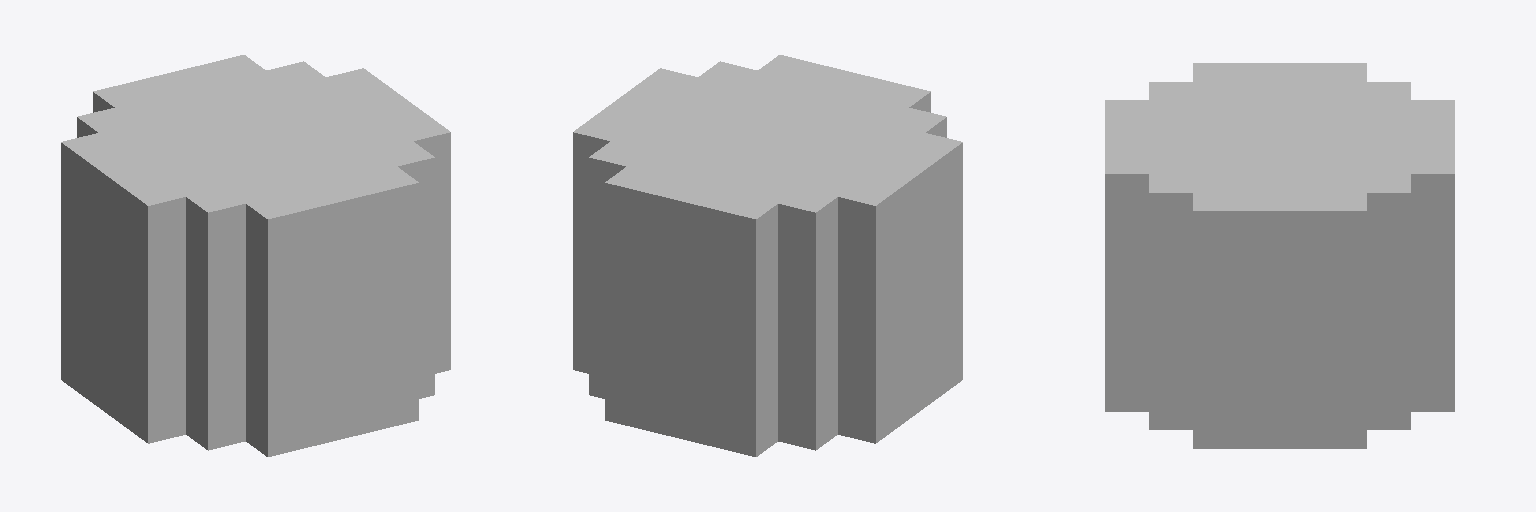
File: glass of Something very bad-0.obj
The picture shows the model from 3 angles: view 1: azimuth 30°, elevation 25°; view 2: azimuth 150°, elevation 25°; view 3: azimuth 270°, elevation 25°; orthographic projection.
Parts seen in each view (by area): view 1: object 1; view 2: object 1; view 3: object 1.
Boxes of the visible parts, box(x1,y1,x2,y2) form: object 1: box(61, 55, 450, 456); object 1: box(573, 55, 962, 456); object 1: box(1105, 63, 1454, 448).
Bounding box in the file's own units: 3.2 × 2.4 × 3.2.